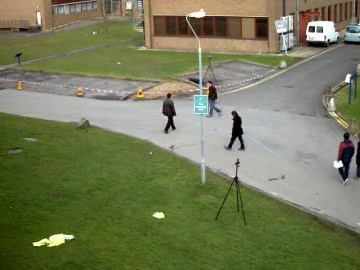person: (227, 110, 245, 153), (160, 93, 177, 133), (205, 80, 221, 115)
